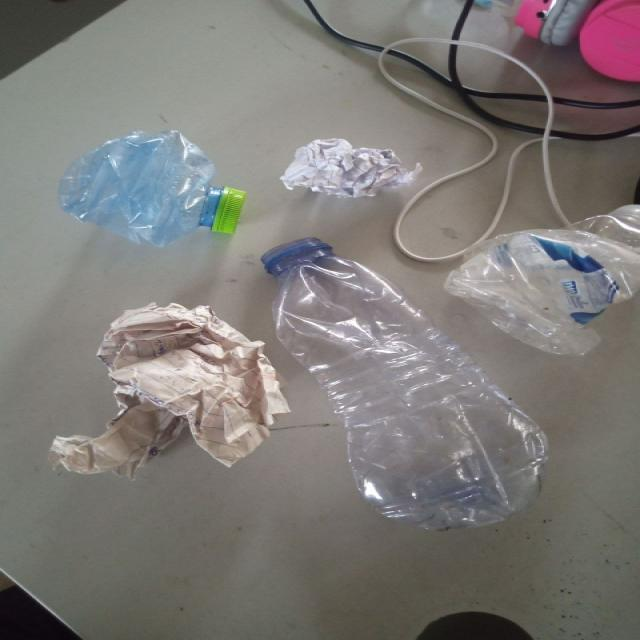Paper: (49, 304, 293, 481), (281, 140, 421, 200)
Plastic: (263, 232, 548, 533), (445, 204, 640, 355), (57, 128, 248, 252)
